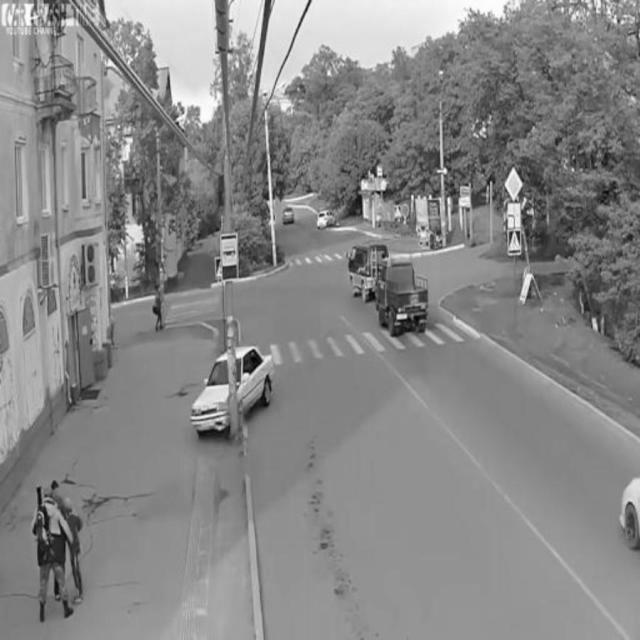accident: (189, 344, 277, 442)
person: (31, 474, 77, 624), (151, 275, 167, 333)
vehicle: (375, 258, 430, 336), (346, 238, 387, 304), (315, 208, 339, 232), (280, 204, 298, 228)
